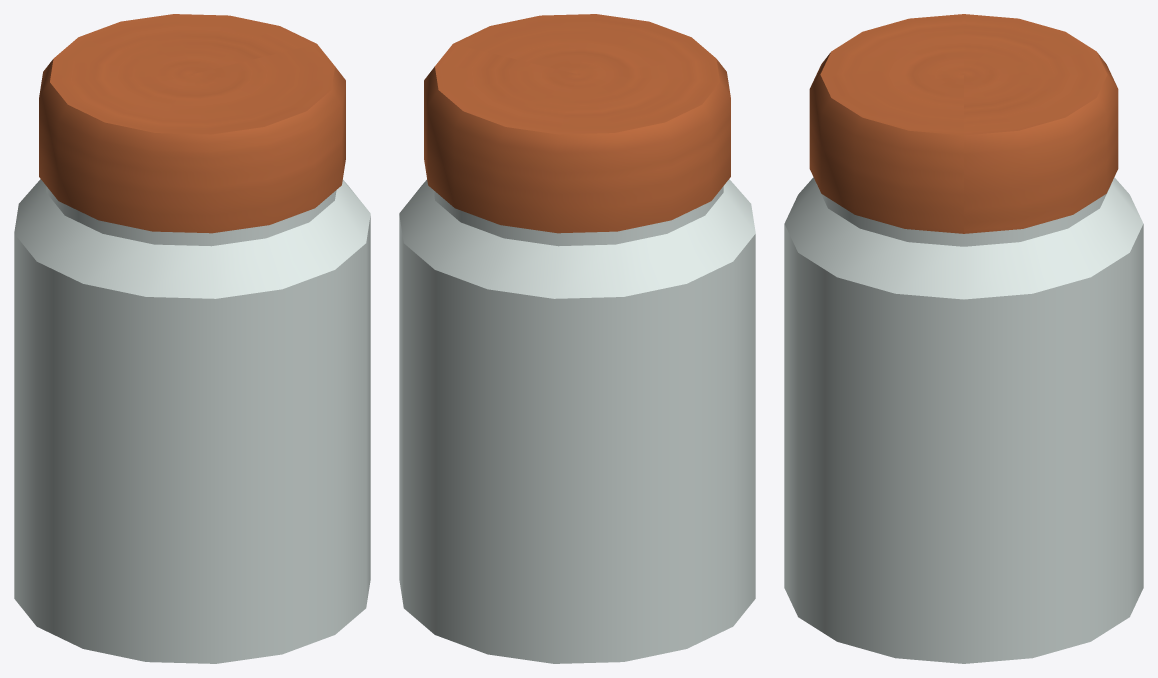
File: SM_Jar_M_Berry.fbx
3 views of the same model, side by side, from view 1: azimuth 30°, elevation 25°; view 2: azimuth 150°, elevation 25°; view 3: azimuth 270°, elevation 25° (orthographic).
Parts seen in each view (by area): view 1: SM_Jar_M_Berry; view 2: SM_Jar_M_Berry; view 3: SM_Jar_M_Berry.
Part boxes in pixels (box(x1,y1,x2,y2)): SM_Jar_M_Berry: box(14, 14, 370, 663); SM_Jar_M_Berry: box(399, 14, 755, 663); SM_Jar_M_Berry: box(784, 14, 1143, 663).
Size of the model in its own units: 0.09 by 0.142 by 0.09.
Materials: 3 (3 with a texture image).
